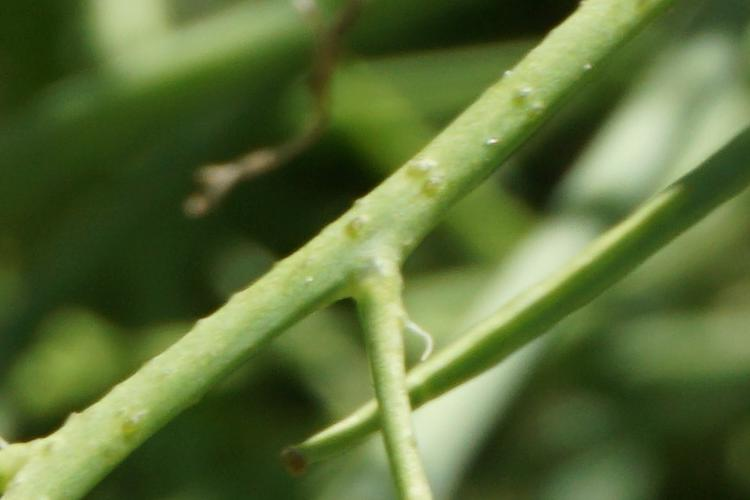pod: (232, 304, 639, 456)
